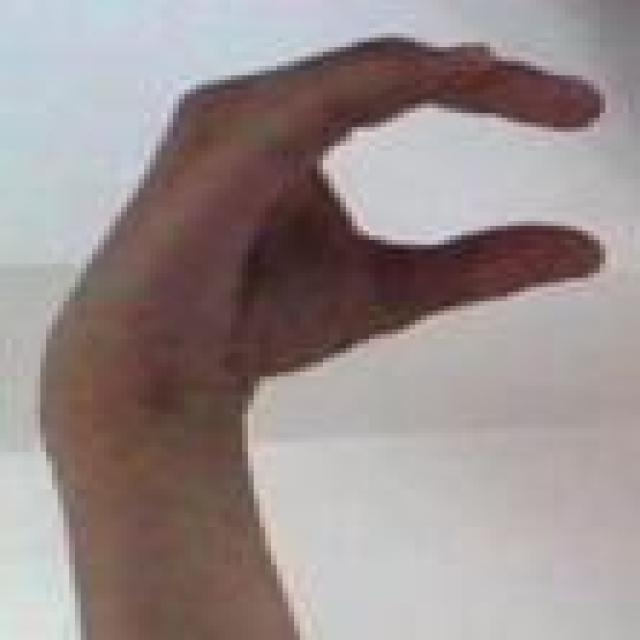C: (2, 3, 640, 414)
